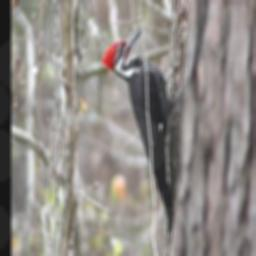Woodpecker: (99, 29, 186, 241)
